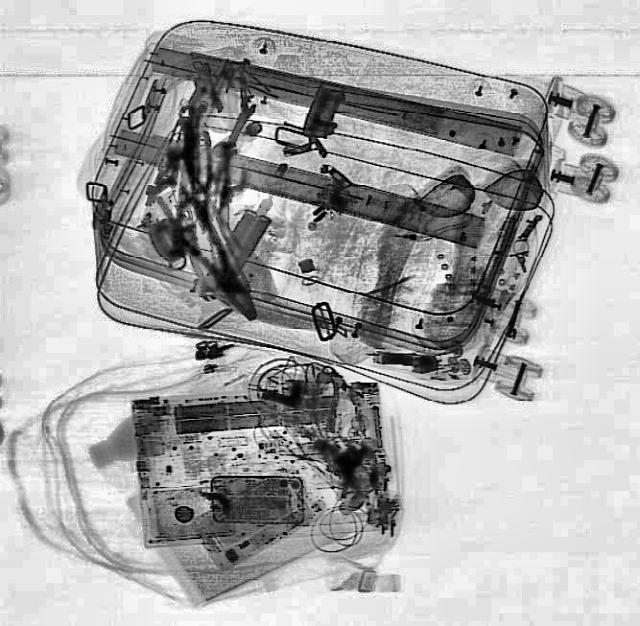Pliers: (152, 178, 274, 330)
